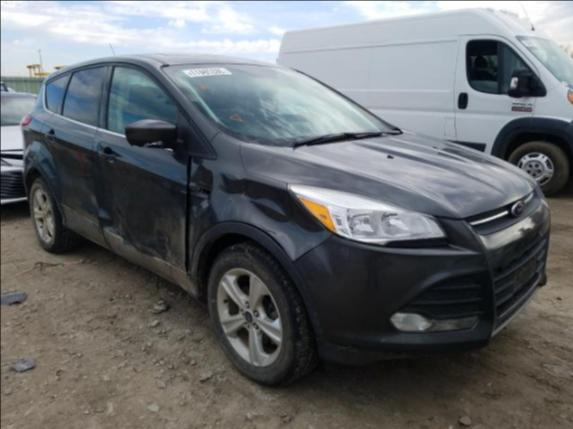Broken part: (243, 220, 292, 258), (182, 155, 194, 291)
Dent: (89, 162, 193, 275), (210, 169, 322, 257), (188, 173, 222, 230), (41, 159, 53, 179), (22, 152, 34, 166)
Paint chip: (220, 295, 228, 306)
